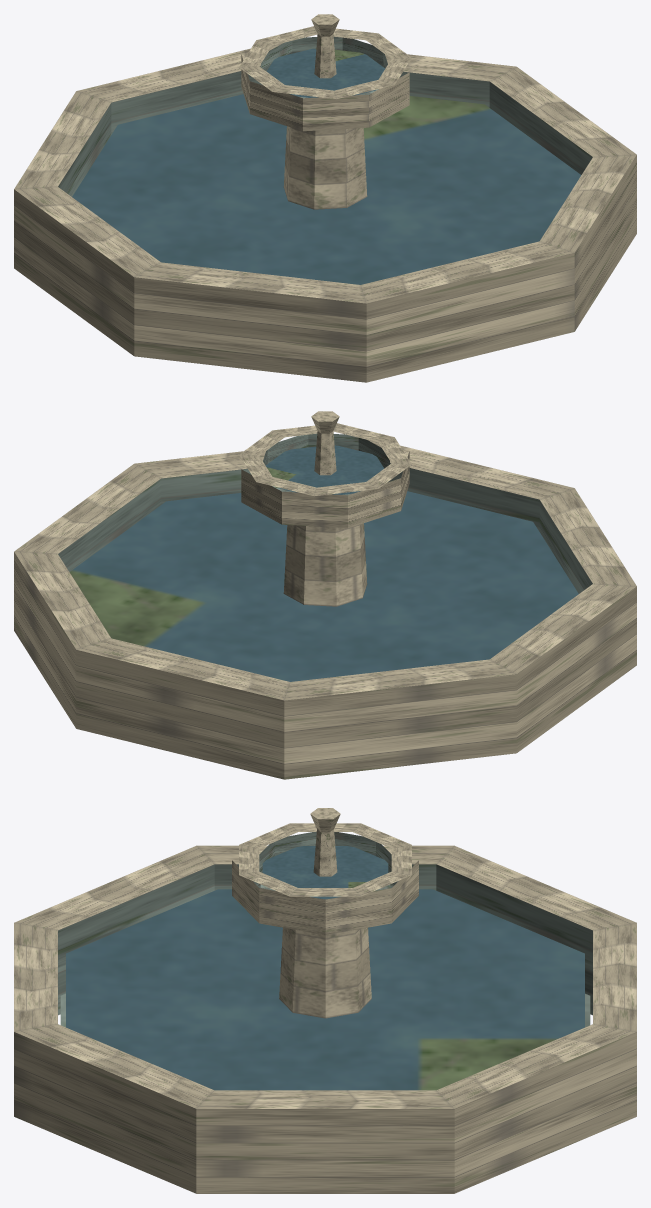
The model's file is prop_haven_fountain_a_lod2.glb.
3 views of the same model, one above another, from view 1: azimuth 30°, elevation 25°; view 2: azimuth 150°, elevation 25°; view 3: azimuth 270°, elevation 25° (orthographic). The views are drawn at different scales.
Visible parts, largest first — view 1: prop_haven_fountain_a_lod2; view 2: prop_haven_fountain_a_lod2; view 3: prop_haven_fountain_a_lod2.
Part boxes in pixels (x1,y1,x2,y2): prop_haven_fountain_a_lod2: (14,14,636,382); prop_haven_fountain_a_lod2: (14,411,636,779); prop_haven_fountain_a_lod2: (14,808,636,1193).
Size of the model in its own units: 3.66 by 1.61 by 3.66.
Materials: 1 (1 with a texture image).
